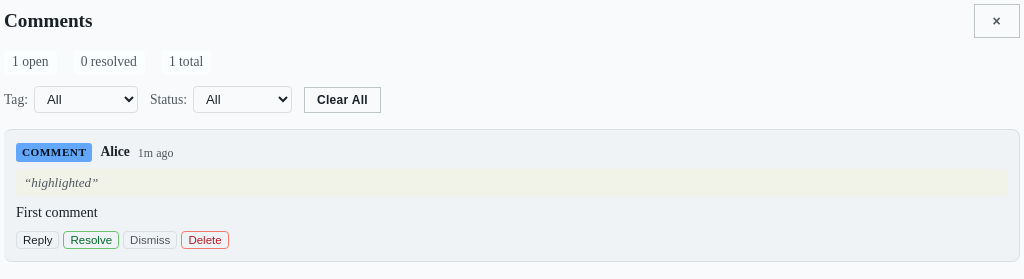
CommentManager › shows the empty filter message when filtered list is empty
Expected: the text "First comment" is shown, 16,204 -> 98,220
Select "Issue" in the dropdown next to "Tag:" at coordinates (86, 100), box 34,86 -> 138,113
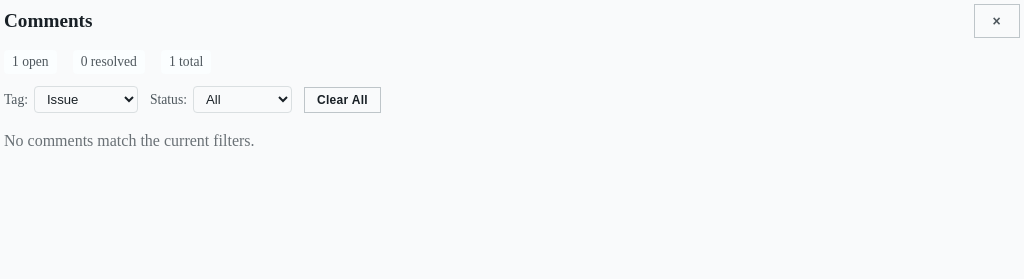
Now the text "No comments match the current filters." is shown, box 4,132 -> 255,149
